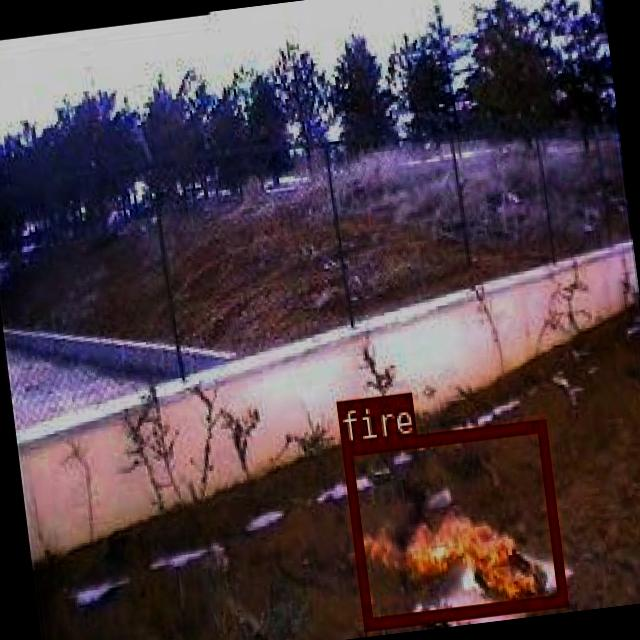fire: (340, 418, 565, 628)
